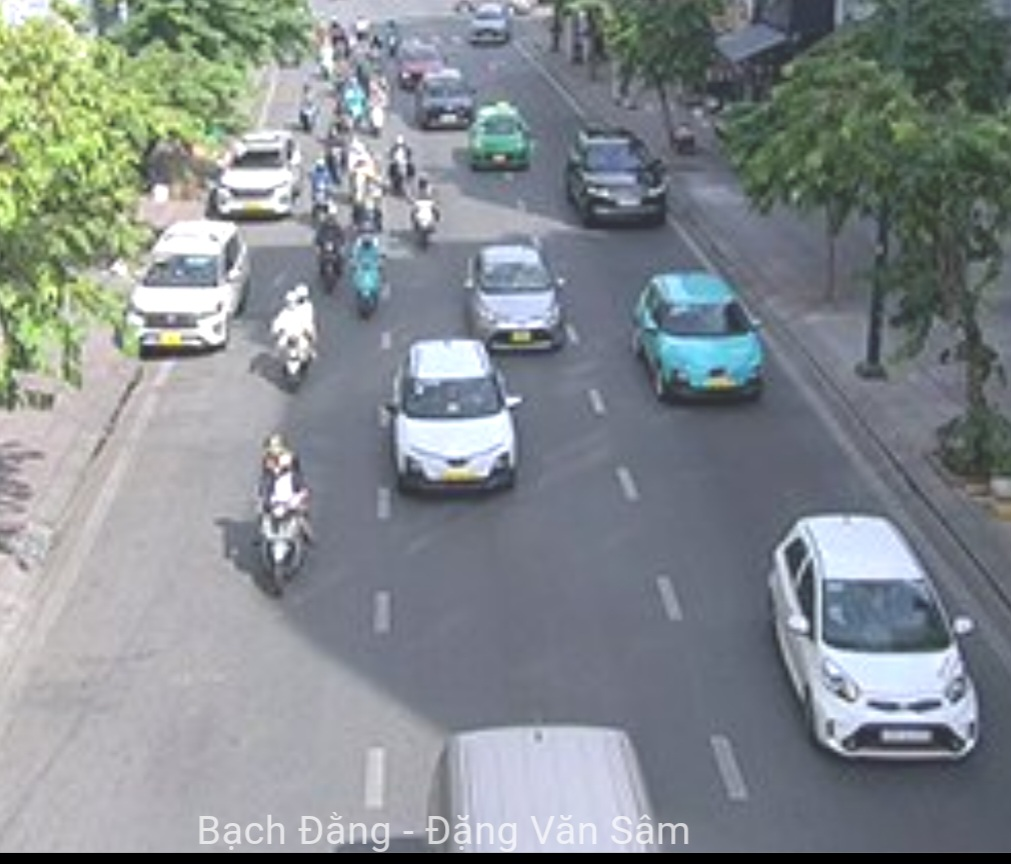car: (766, 521, 985, 768), (393, 342, 522, 497), (633, 273, 766, 409), (122, 225, 253, 361), (462, 249, 569, 354), (562, 130, 669, 233), (213, 122, 299, 221), (470, 105, 535, 177), (414, 71, 471, 133), (466, 2, 512, 50)
